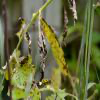Tomato Septoria leaf spot: (41, 17, 68, 74), (11, 56, 40, 99)
